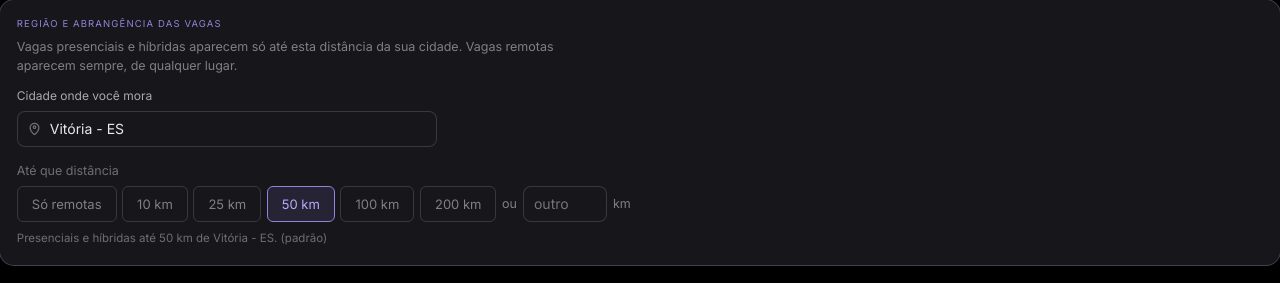
Test case: região das vagas › o raio grava o número, e 'Só remotas' grava zero
This screenshot has width=1280, height=283.
Click the radio button labelled "100 km": coordinates (377, 204) [340,186,414,222]
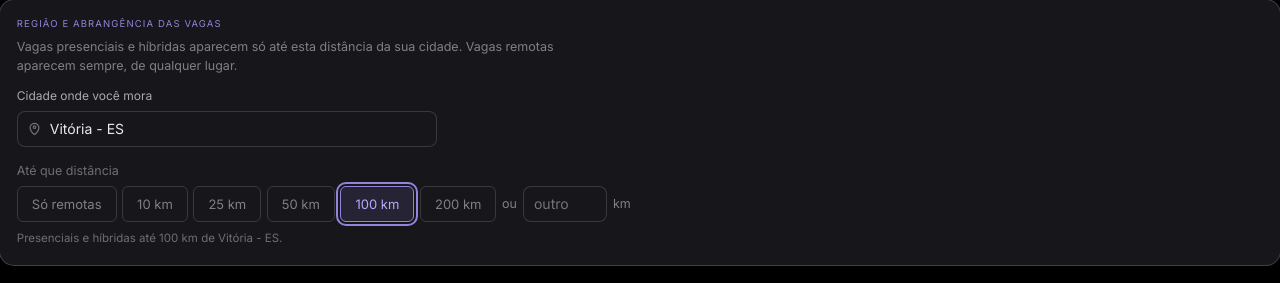
Click the radio button labelled "Só remotas": coordinates (67, 204) [17,186,116,222]
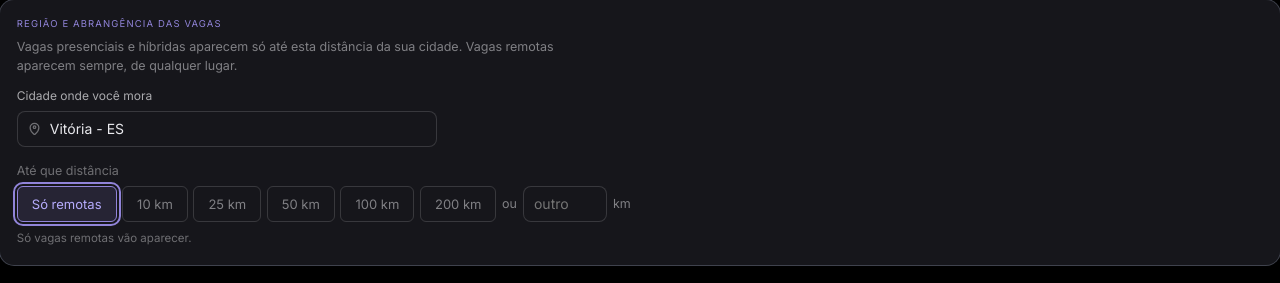
Result: the text "Só vagas remotas vão aparecer." is shown at [17,231,192,245]
